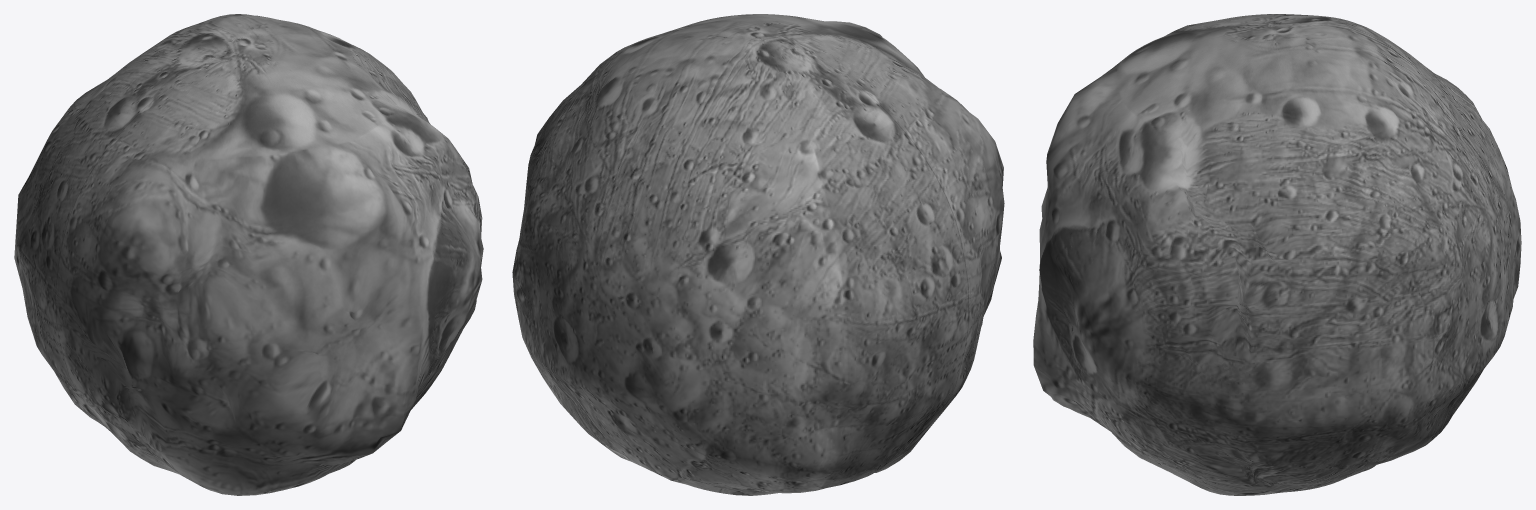
The model's file is Phobos.glb.
The picture shows the model from 3 angles, left to right: view 1: azimuth 30°, elevation 25°; view 2: azimuth 150°, elevation 25°; view 3: azimuth 270°, elevation 25°; orthographic projection. The views are drawn at different scales.
Visible parts, largest first — view 1: Sphere; view 2: Sphere; view 3: Sphere.
Boxes of the visible parts, x1,y1,x2,y2 form: Sphere: (14, 14, 483, 495); Sphere: (512, 14, 1004, 495); Sphere: (1033, 14, 1521, 495).
Bounding box in the file's own units: 2.03 × 2.04 × 2.04.
Materials: 1 (1 with a texture image).
